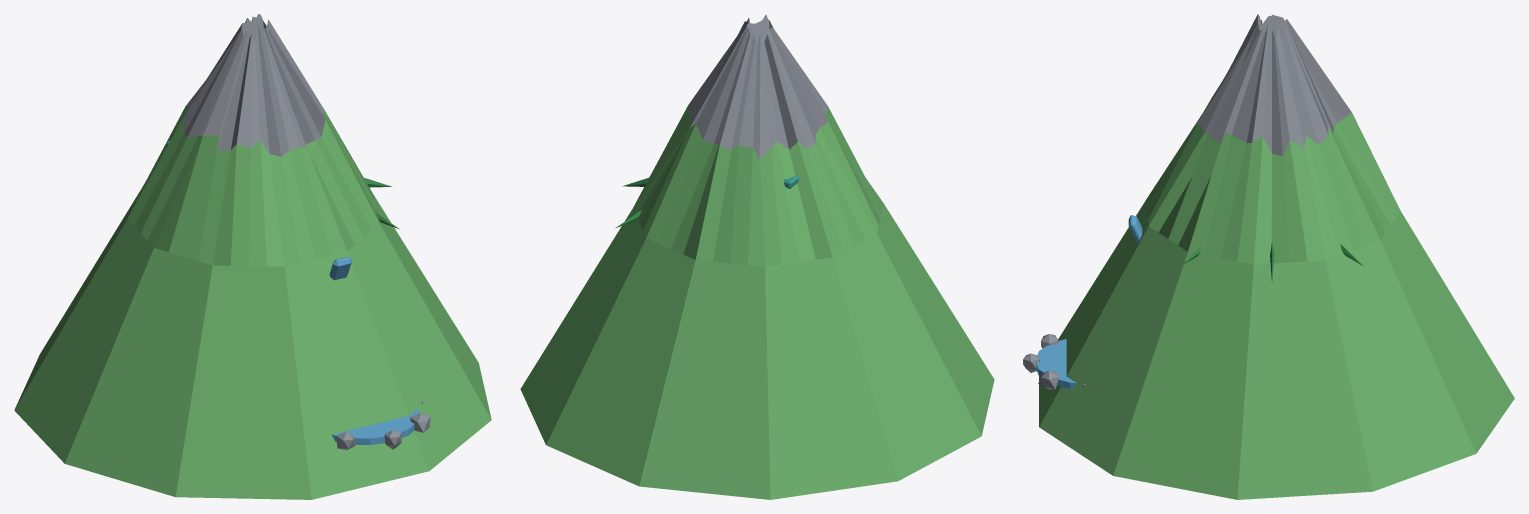
File: island-kit.glb
3 renders of one model, left to right at view 1: azimuth 30°, elevation 25°; view 2: azimuth 150°, elevation 25°; view 3: azimuth 270°, elevation 25°, orthographic.
Parts seen in each view (by area): view 1: peak; view 2: peak; view 3: peak.
Boxes of the visible parts, x1=… form: peak: x1=14, y1=14, x2=491, y2=499; peak: x1=520, y1=14, x2=994, y2=499; peak: x1=1023, y1=14, x2=1514, y2=499.
Bounding box in the file's own units: 2.67 × 2.69 × 2.73.
